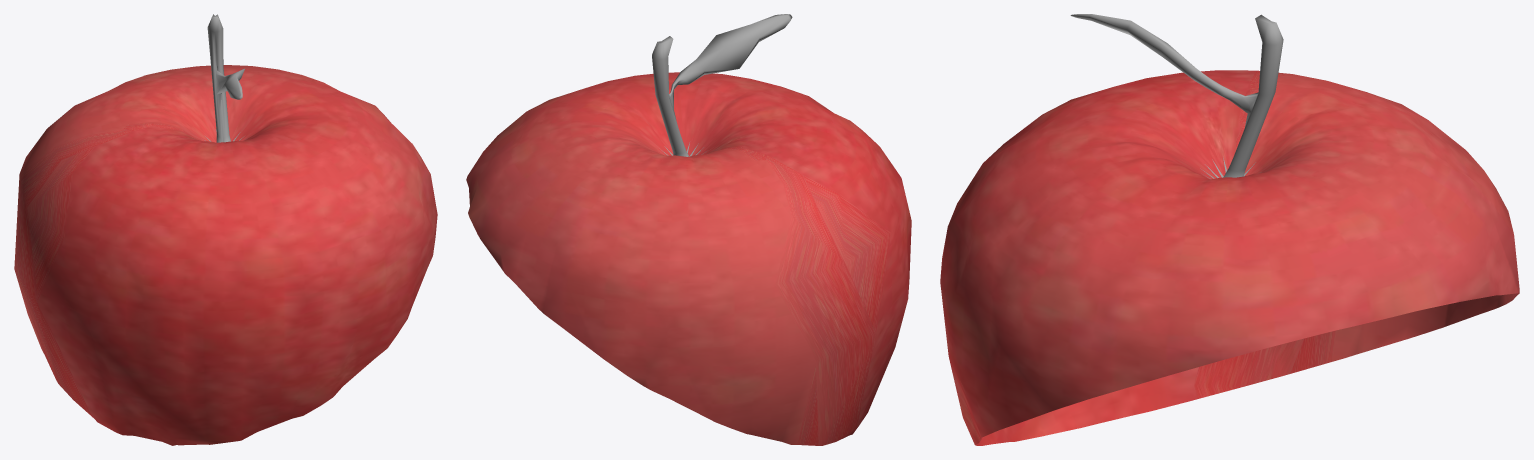
File: appeltjeBovenkant.obj
3 views of the same model, side by side, from view 1: azimuth 30°, elevation 25°; view 2: azimuth 150°, elevation 25°; view 3: azimuth 270°, elevation 25° (orthographic). The views are drawn at different scales.
Parts seen in each view (by area): view 1: Apple; view 2: Apple; view 3: Apple.
Boxes of the visible parts, <box> form: Apple: <box>14,14,437,445</box>; Apple: <box>466,14,911,445</box>; Apple: <box>940,14,1519,445</box>.
Size of the model in its own units: 1.21 by 1.13 by 1.22.
3 materials, 1 textured.
